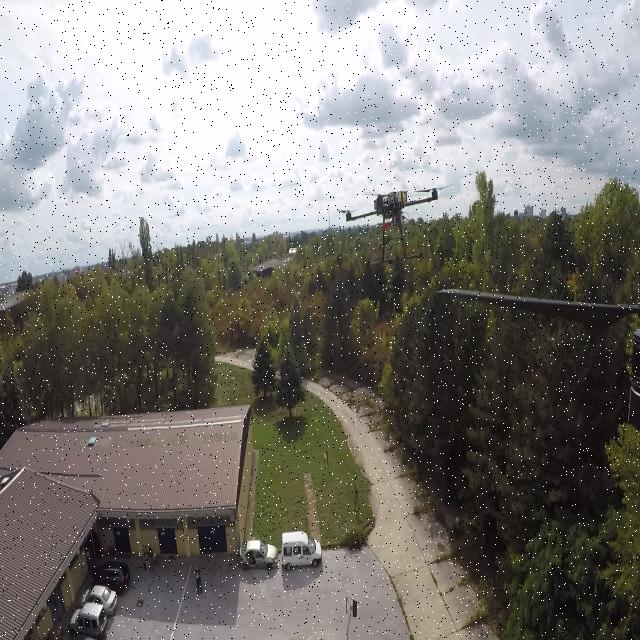UAV: (340, 180, 457, 270)
